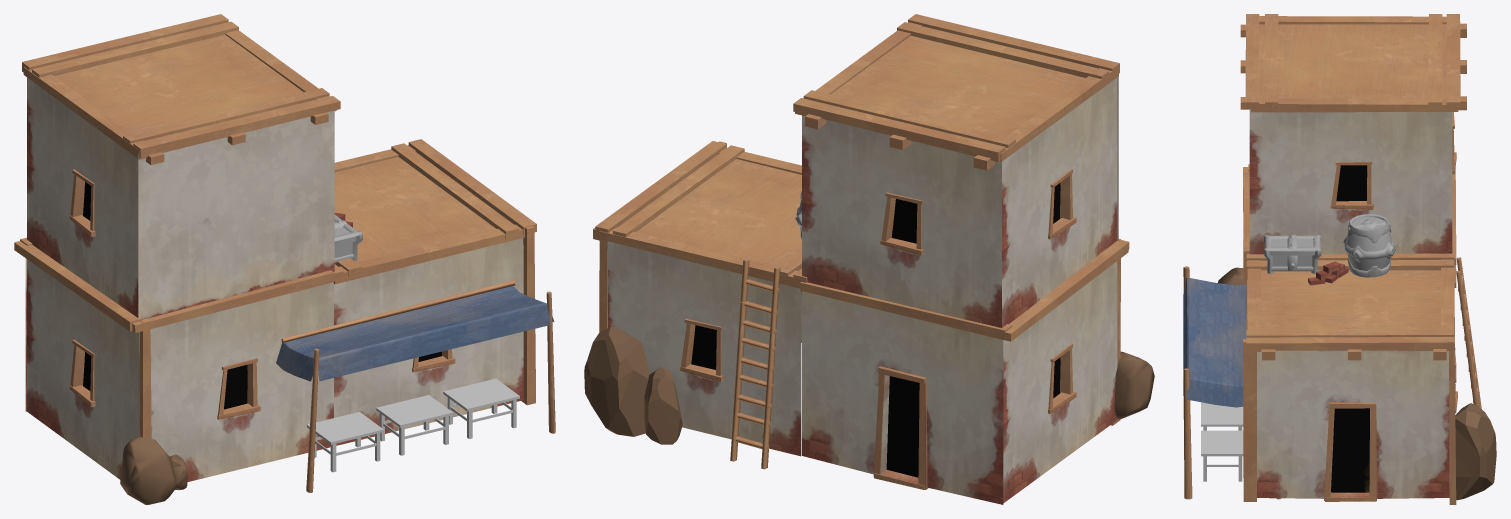
File: SM_house_6.fbx
The picture shows the model from 3 angles, left to right: view 1: azimuth 30°, elevation 25°; view 2: azimuth 150°, elevation 25°; view 3: azimuth 270°, elevation 25°; orthographic projection. The views are drawn at different scales.
Visible parts, largest first — view 1: kit1_window_wall41, kit1_carpet7, polySurface1073, polySurface1003, group29_pCube1297, polySurface1004, group29_pCube1296, group29_pCube1298, polySurface1050, polySurface1051, polySurface1049, SM_Chest2; view 2: kit1_window_wall41, rock_low1, polySurface1072, polySurface1004, rock_low2, polySurface1005, polySurface1073, polySurface1071; view 3: kit1_window_wall41, kit1_carpet7, rock_low1, SM_BigBarrel3, polySurface1050, SM_Chest2, group29_pCube1296, polySurface1072, polySurface1071, group29_pCube1297, polySurface1003, pCube1355 (+1 smaller).
Boxes of the visible parts, left/top/right/bottom form: kit1_window_wall41: left=22, top=14, right=536, bottom=482; kit1_carpet7: left=276, top=286, right=555, bottom=492; polySurface1073: left=120, top=436, right=176, bottom=504; polySurface1003: left=132, top=270, right=334, bottom=332; group29_pCube1297: left=376, top=395, right=452, bottom=455; polySurface1004: left=14, top=241, right=142, bottom=331; group29_pCube1296: left=443, top=378, right=519, bottom=438; group29_pCube1298: left=307, top=412, right=383, bottom=472; polySurface1050: left=521, top=226, right=535, bottom=405; polySurface1051: left=139, top=318, right=151, bottom=438; polySurface1049: left=281, top=280, right=514, bottom=342; SM_Chest2: left=334, top=215, right=362, bottom=263; kit1_window_wall41: left=593, top=14, right=1119, bottom=504; rock_low1: left=584, top=327, right=650, bottom=436; polySurface1072: left=730, top=259, right=780, bottom=469; polySurface1004: left=997, top=240, right=1128, bottom=341; rock_low2: left=644, top=367, right=682, bottom=444; polySurface1005: left=800, top=282, right=1012, bottom=340; polySurface1073: left=1114, top=351, right=1154, bottom=419; polySurface1071: left=599, top=239, right=607, bottom=332; kit1_window_wall41: left=1240, top=14, right=1466, bottom=501; kit1_carpet7: left=1183, top=266, right=1280, bottom=499; rock_low1: left=1455, top=403, right=1496, bottom=500; SM_BigBarrel3: left=1343, top=214, right=1395, bottom=277; polySurface1050: left=1243, top=339, right=1256, bottom=501; SM_Chest2: left=1264, top=234, right=1321, bottom=273; group29_pCube1296: left=1201, top=430, right=1243, bottom=481; polySurface1072: left=1456, top=257, right=1481, bottom=408; polySurface1071: left=1449, top=350, right=1456, bottom=504; group29_pCube1297: left=1201, top=402, right=1243, bottom=430; polySurface1003: left=1243, top=167, right=1249, bottom=259; pCube1355: left=1308, top=261, right=1348, bottom=285.
Size of the model in its own units: 9.37 by 7.51 by 6.68.
